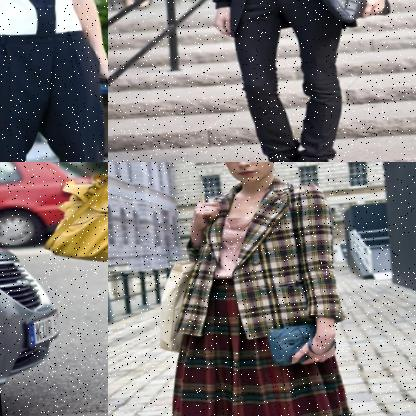jacket: (160, 170, 348, 340)
pants: (222, 0, 371, 162), (0, 25, 108, 162)
shirt: (0, 0, 87, 44)
skirt: (156, 265, 357, 416)
